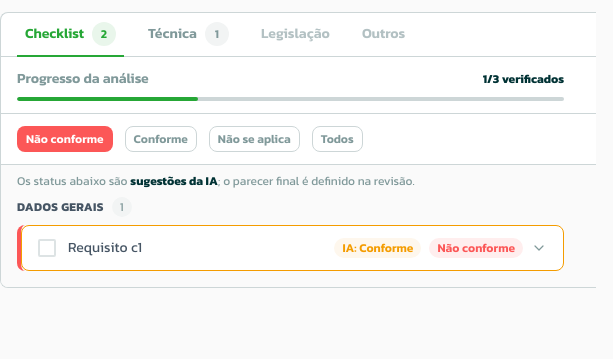
Scenario: PainelRevisao › marcar verificado (RF-011) › numa análise CONCLUIDA os checkboxes ficam desabilitados
Click the button "Todos".
click(337, 139)  # box [312,126,363,152]
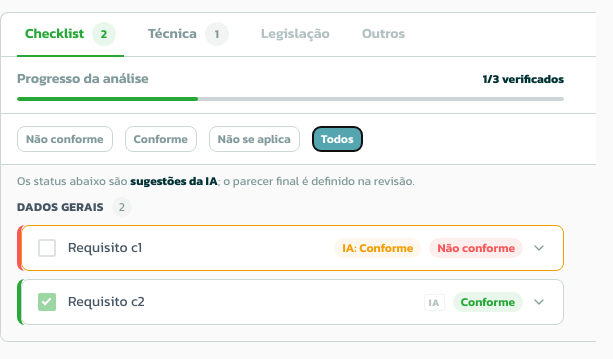
Expected: the checkbox named "Verificado — Requisito c1" is disabled, [38,239,56,257]
Result: the checkbox named "Verificado — Requisito c2" is disabled at [38,293,56,311]
